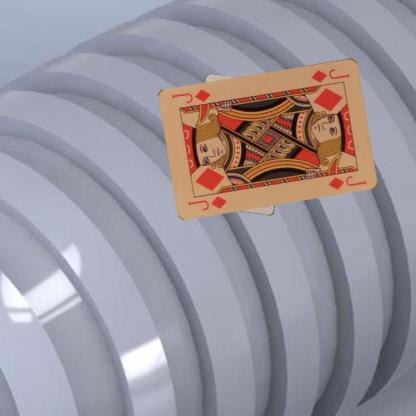Jd: (186, 192, 228, 212), (309, 66, 351, 84)
